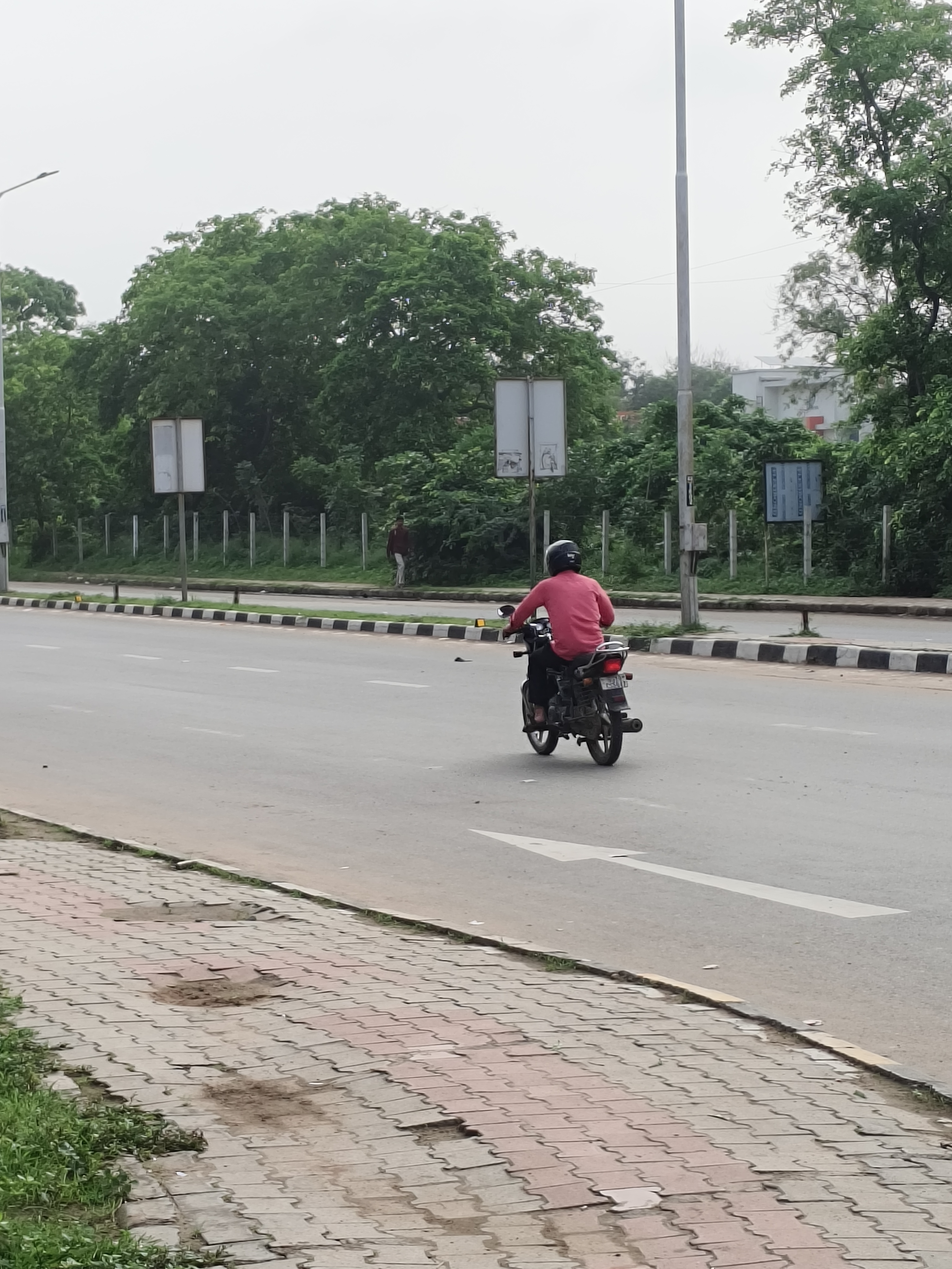BikeWithRider: (494, 535, 647, 776)
Helmet: (542, 536, 586, 581)
